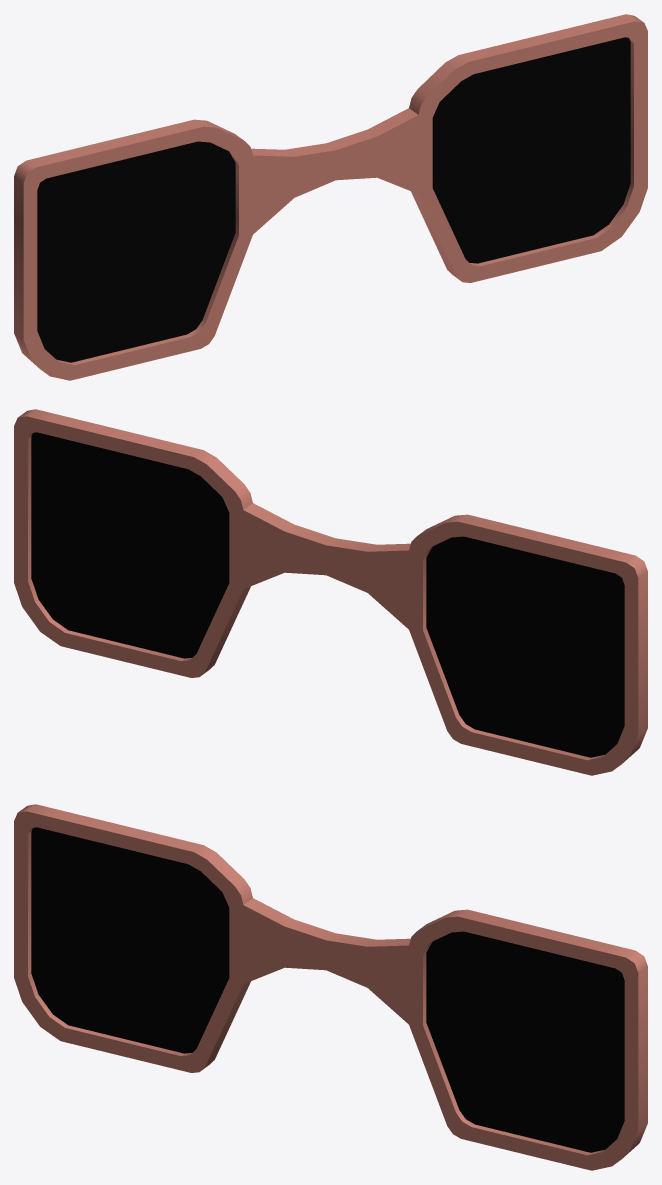
File: sunglasses.fbx
3 renders of one model, top to bottom at view 1: azimuth 30°, elevation 25°; view 2: azimuth 150°, elevation 25°; view 3: azimuth 330°, elevation 25°, orthographic.
Visible parts, largest first — view 1: sunglasses; view 2: sunglasses; view 3: sunglasses.
Part boxes in pixels (<box>): sunglasses: <box>14,14,647,380</box>; sunglasses: <box>14,409,647,775</box>; sunglasses: <box>14,804,647,1170</box>.
Size of the model in its own units: 70.21 by 23.8 by 1.87.
